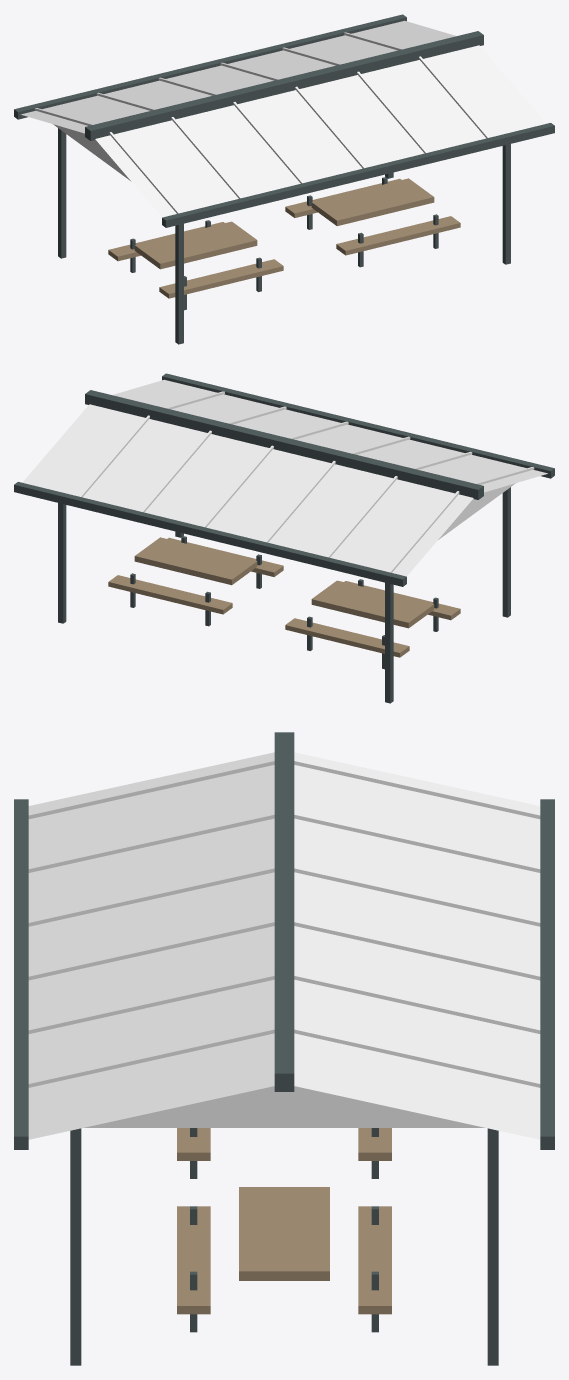
File: frontier_rest_shelter.glb
The picture shows the model from 3 angles, top to bottom: view 1: azimuth 30°, elevation 25°; view 2: azimuth 150°, elevation 25°; view 3: azimuth 270°, elevation 25°; orthographic projection. The views are drawn at different scales.
Parts seen in each view (by area): view 1: frontier_rest_shelter; view 2: frontier_rest_shelter; view 3: frontier_rest_shelter.
Boxes of the visible parts, box(x1,y1,x2,y2) form: frontier_rest_shelter: box(14, 14, 554, 344); frontier_rest_shelter: box(14, 373, 554, 703); frontier_rest_shelter: box(14, 732, 554, 1365).
Bounding box in the file's own units: 8.9 × 3.87 × 5.96.
